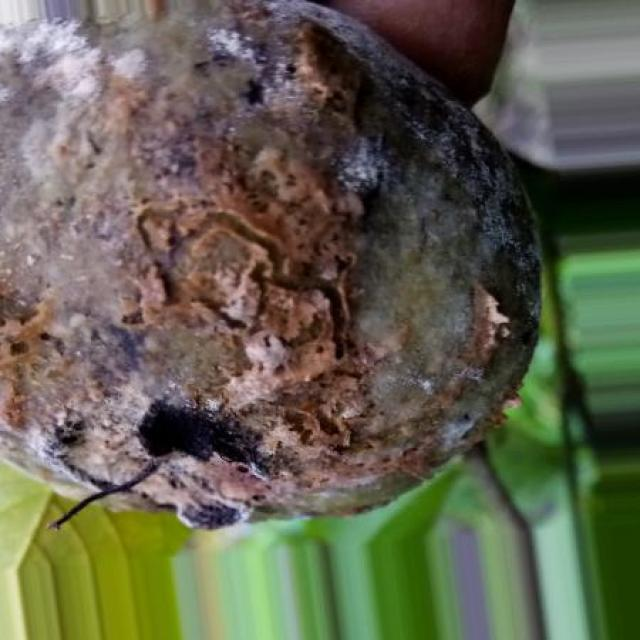Phytopthora: (0, 0, 539, 527)
